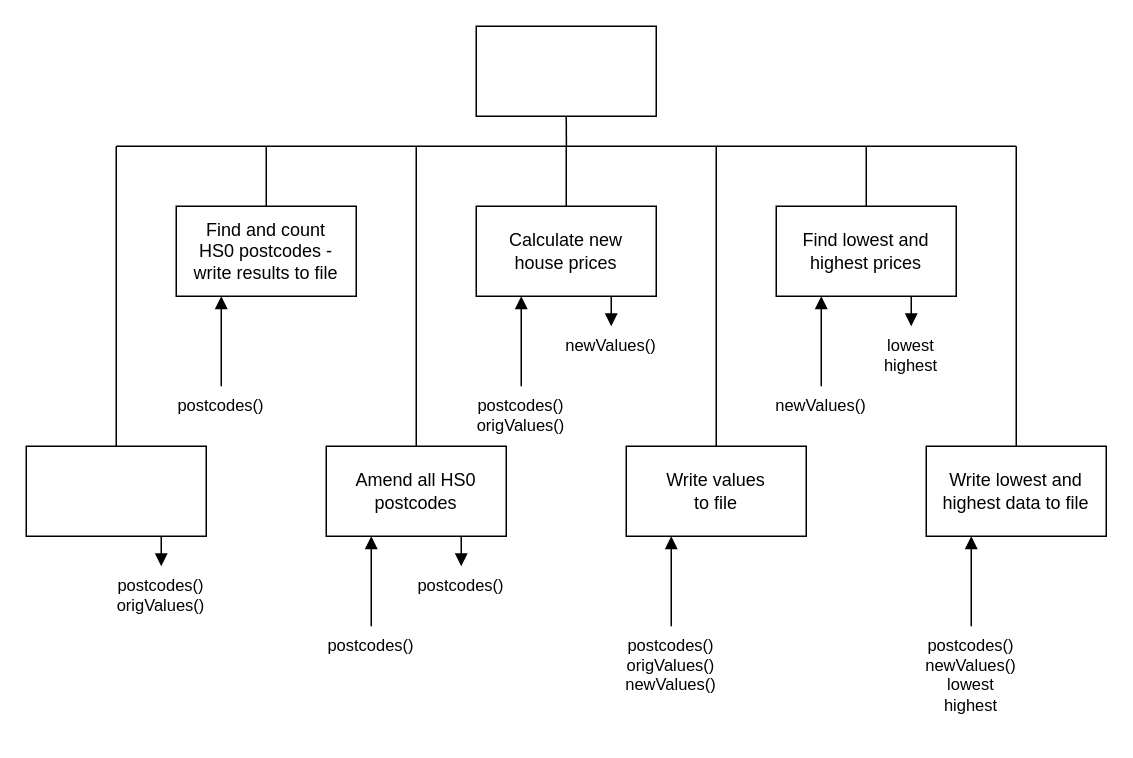
This 1133x758 diagram has some shape labels left out. The shapes that lost their labels are listed below. From the top down, each one's centre as x and y in pixels, then its label:
At (565,70): "House Prices".
At (115,490): "Read values from file".
